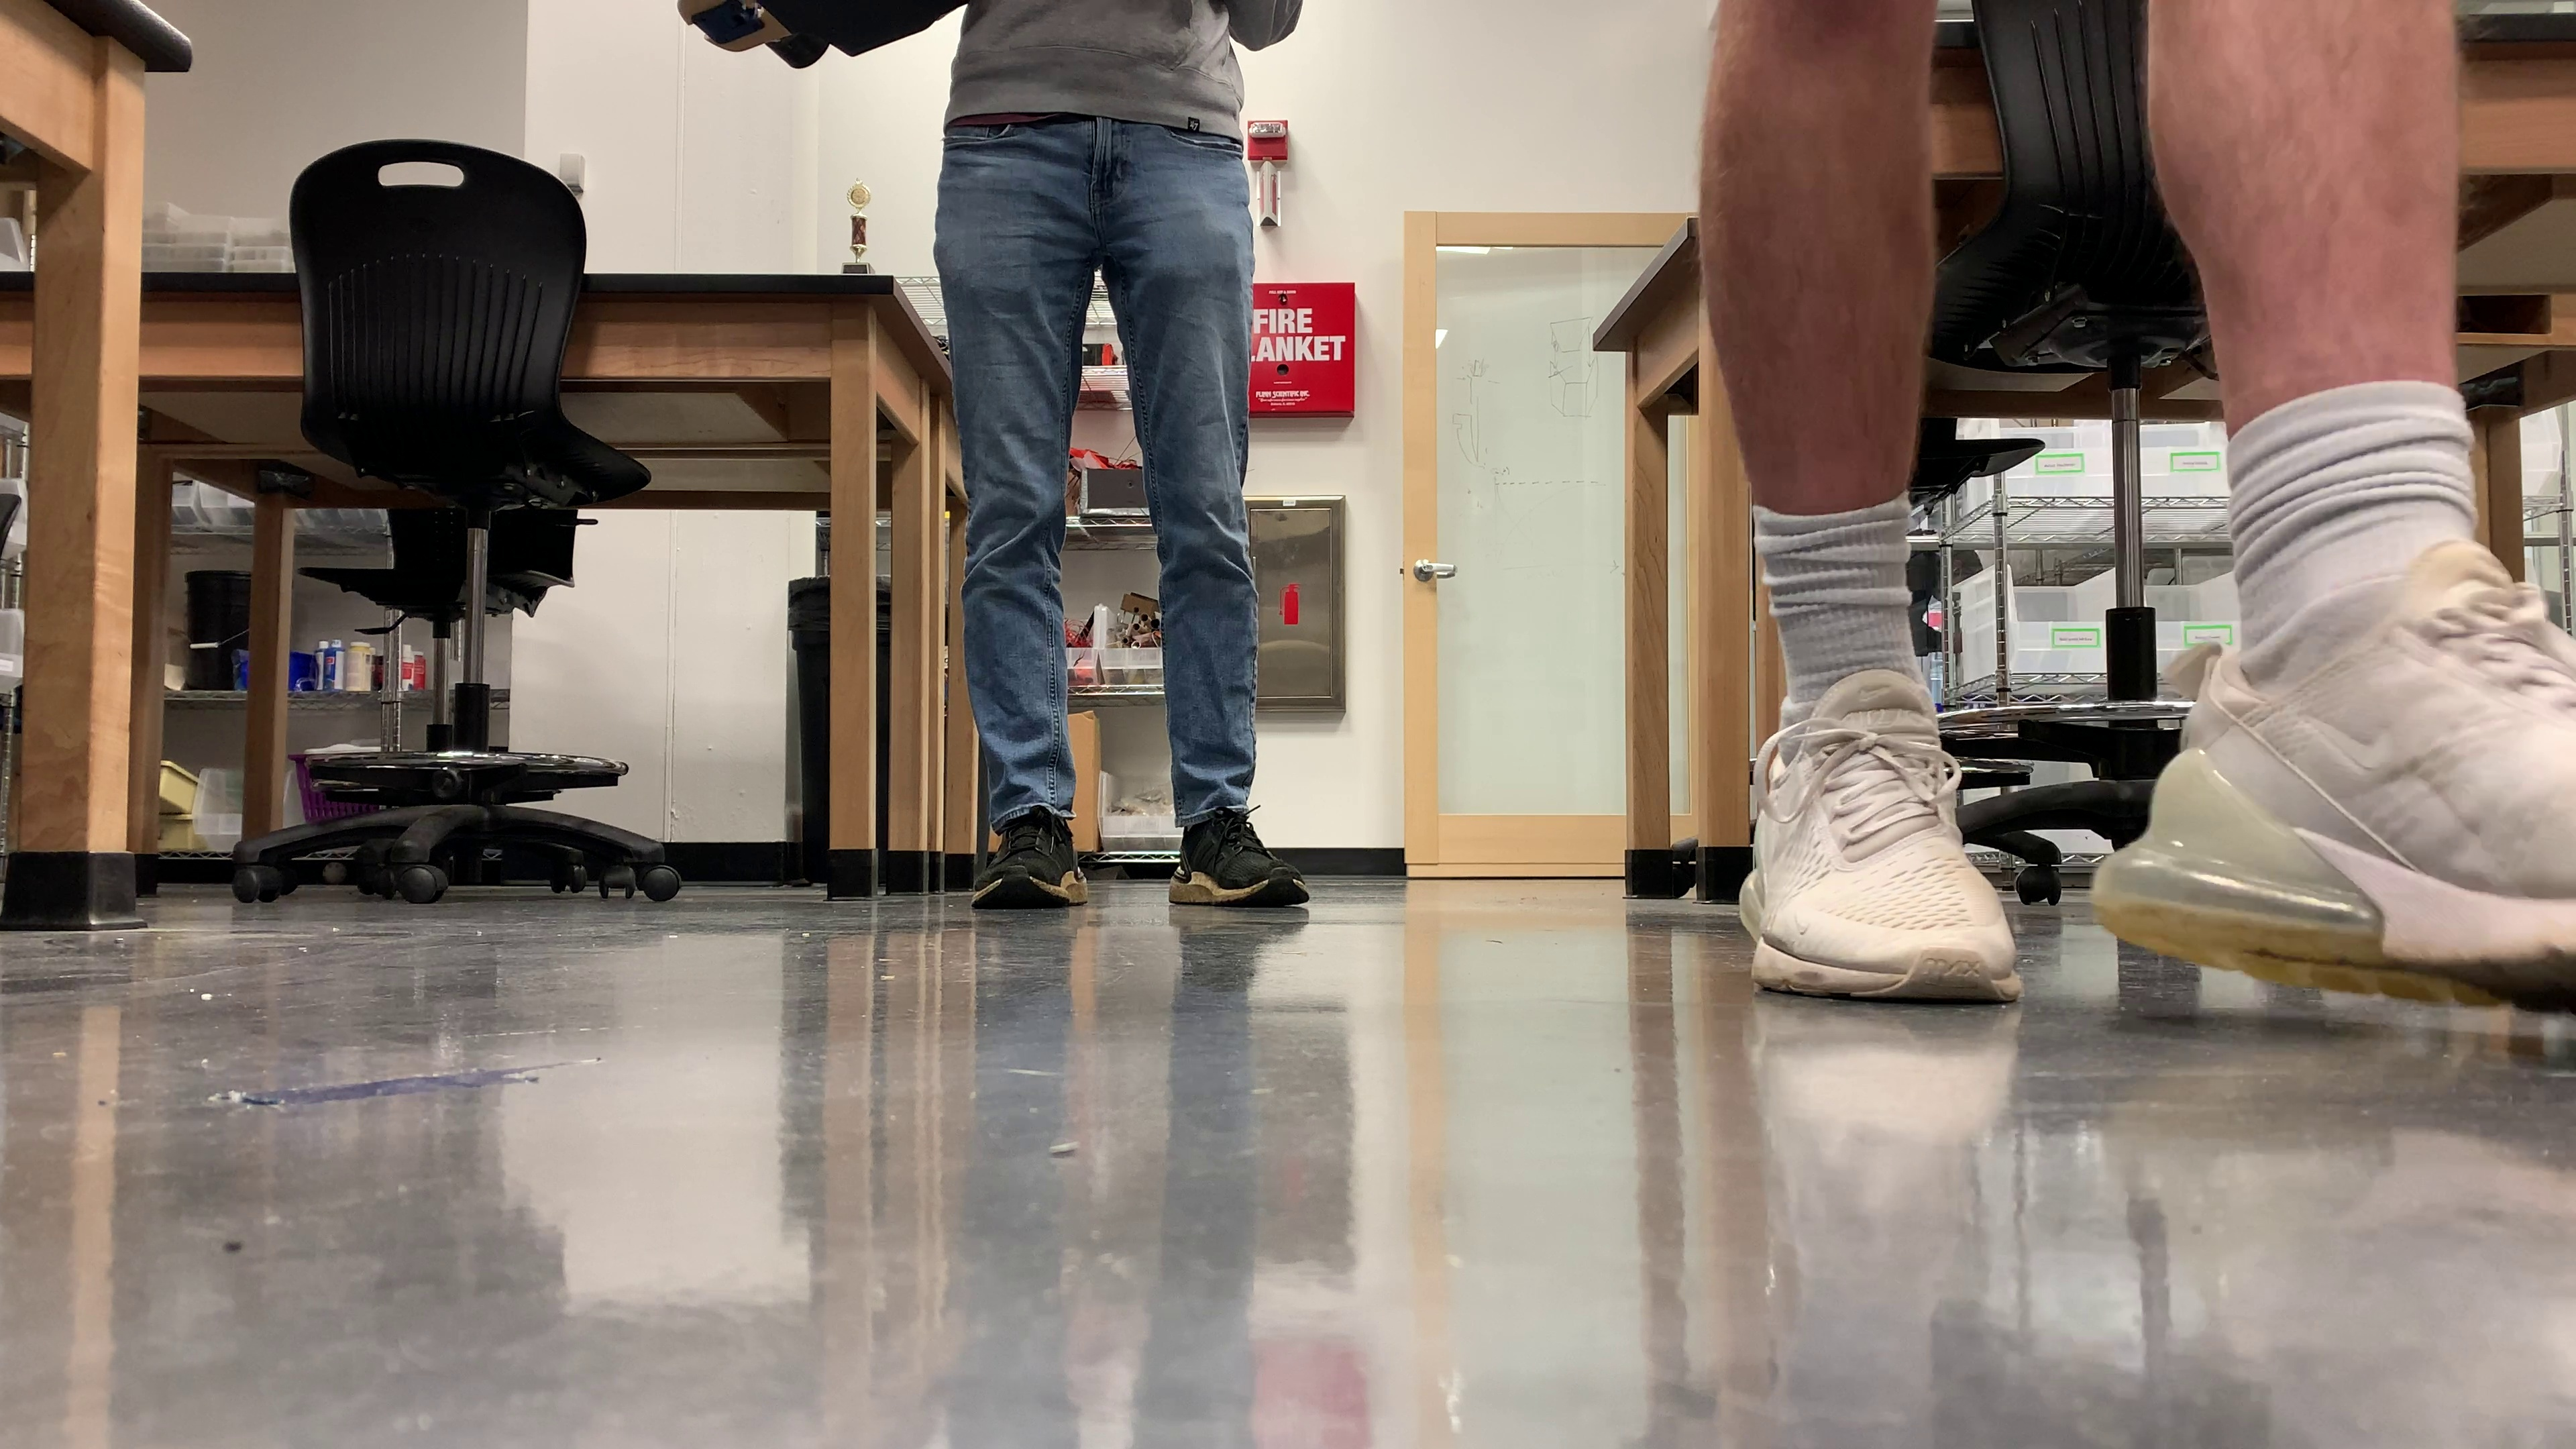shoe: (2089, 541, 2576, 1016), (1741, 662, 2024, 1008), (1169, 814, 1307, 908), (970, 809, 1086, 908)
